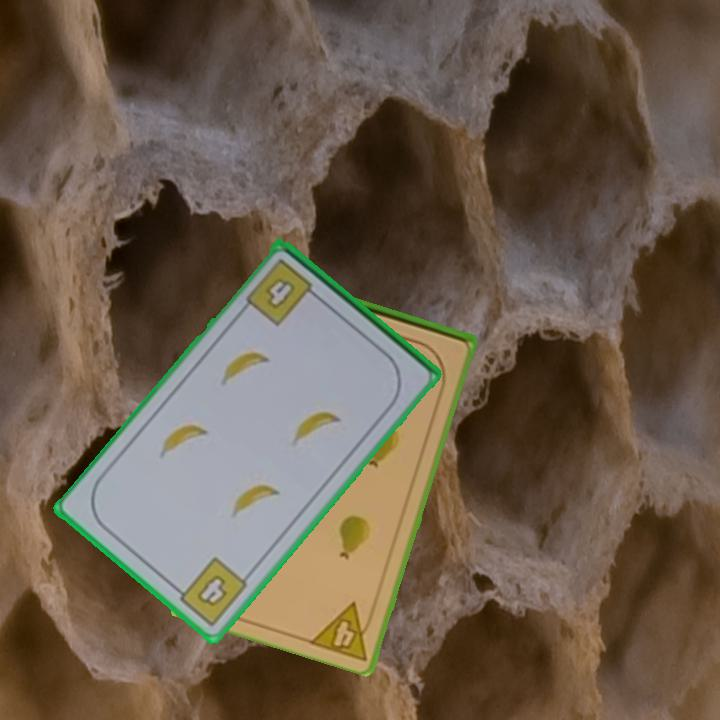4b: (168, 553, 251, 630), (262, 278, 295, 312)
4p: (306, 598, 380, 664)
